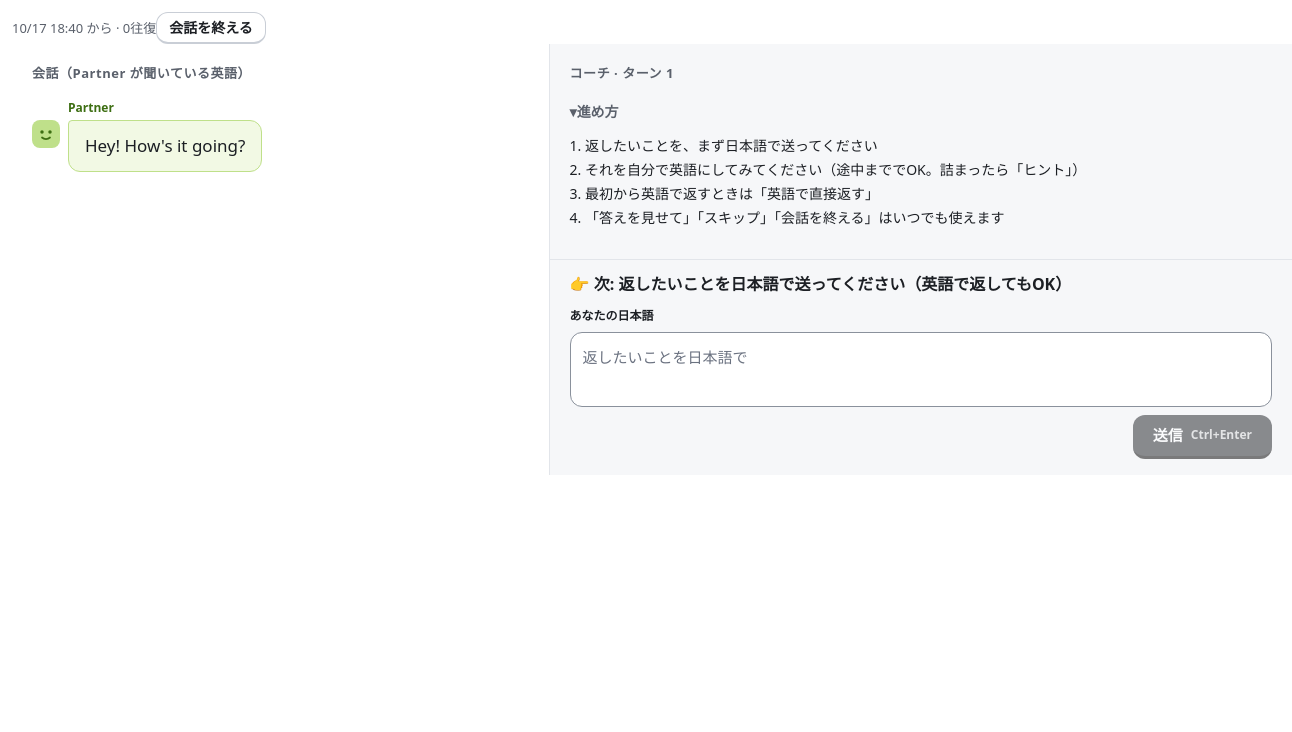
Scenario: Composer on the conversation screen (REQ-005) › keeps the text and shows any other error as the pane's failure banner
Type "久しぶりに映画を見た" into the text box labelled "あなたの日本語" at (921, 369), box [570, 332, 1272, 406]
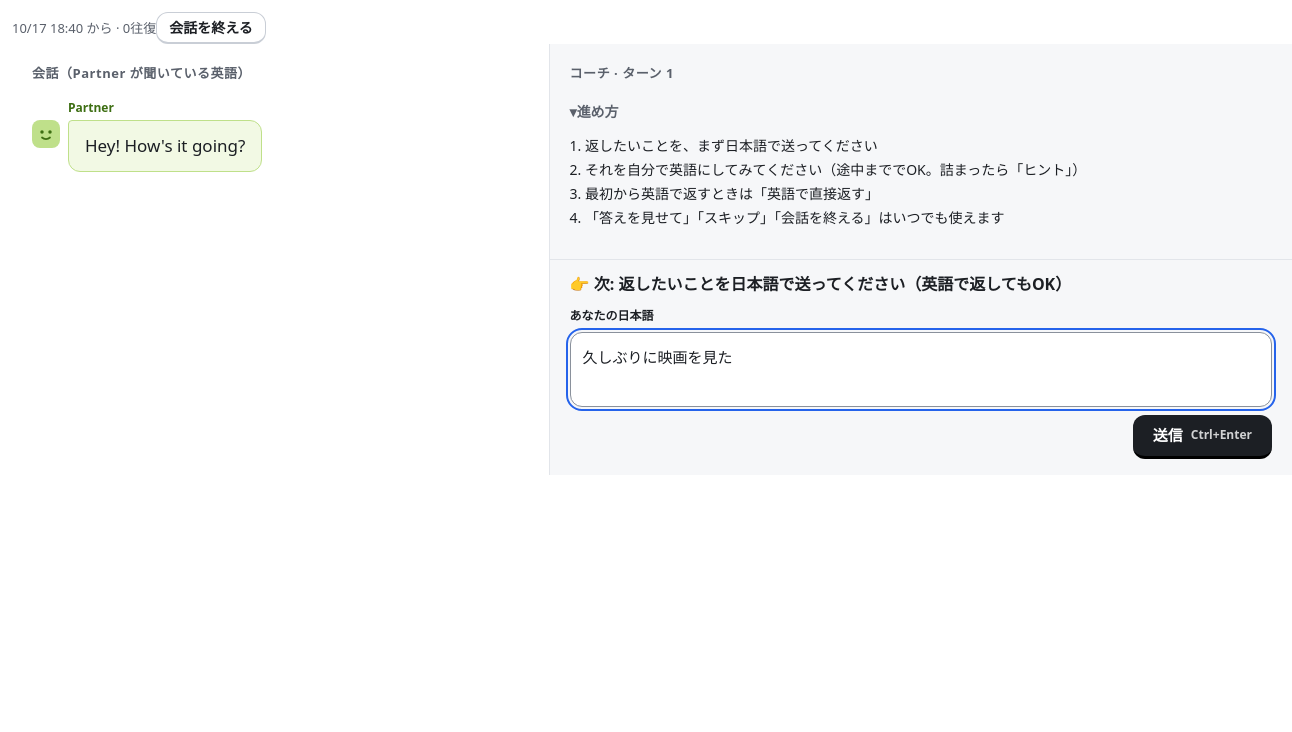
Type keys "{Meta>}{Enter}{/Meta}"
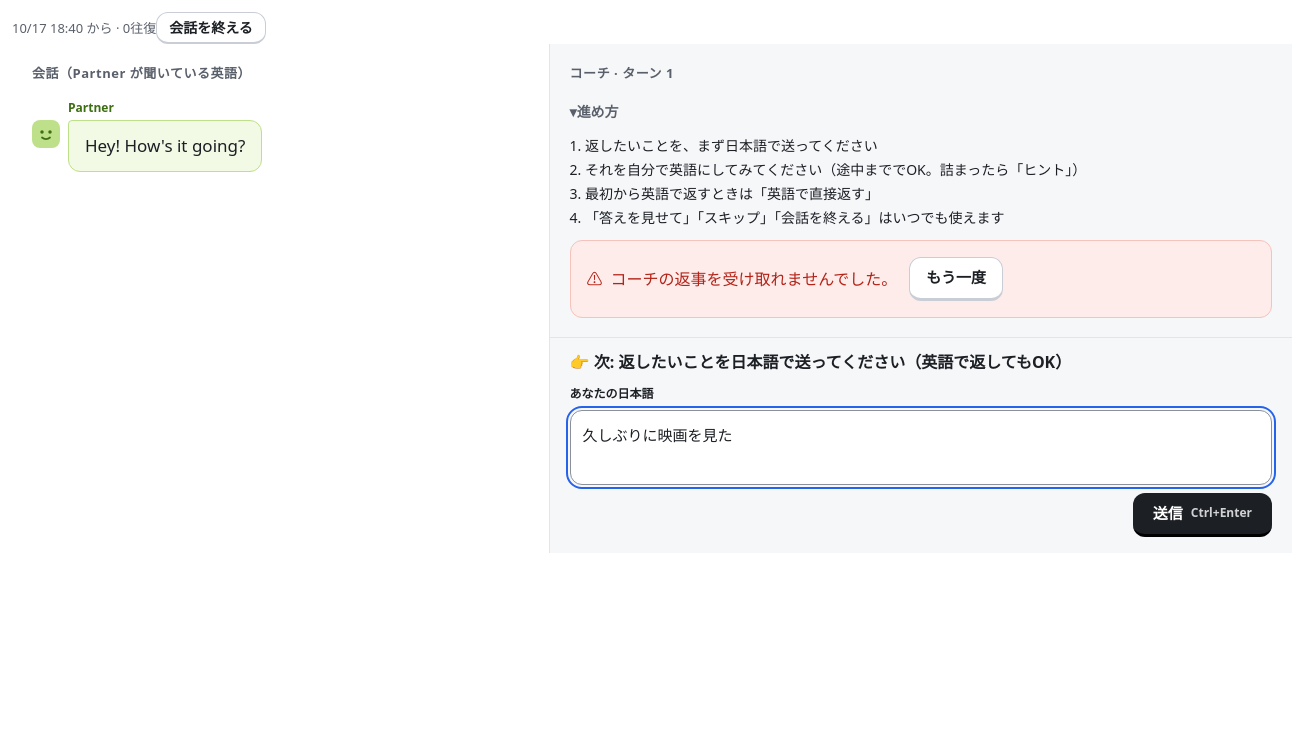
Expected: the message "⚠ コーチの返事を受け取れませんでした。 もう一度" is shown, [570, 240, 1272, 318]
